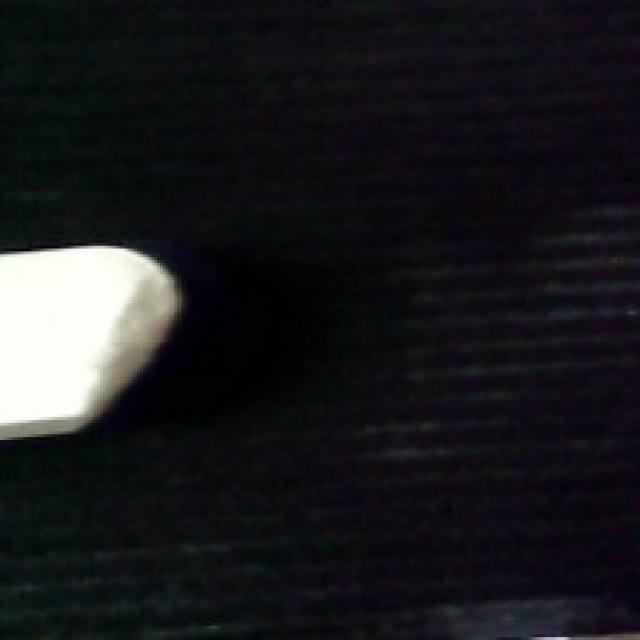defected: (0, 234, 189, 446)
